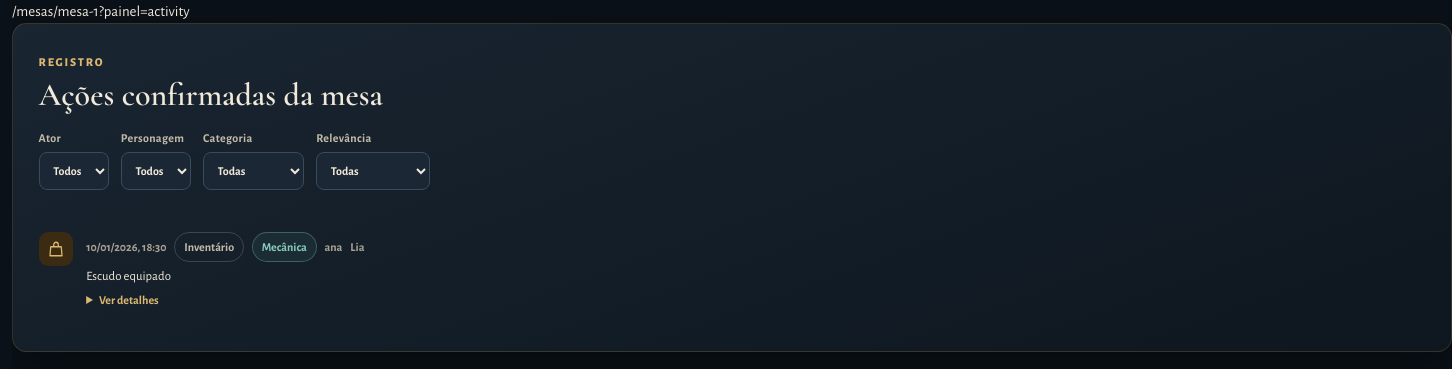
it: AuditLog — 7.4/7.5/7.6 registro de auditoria › combina os filtros de personagem e categoria, refletindo-os na URL e na consulta enviada
Expected: the text "Escudo equipado" is shown, x1=86 y1=270 x2=171 y2=283
Select "Lia" in the dropdown labelled "Personagem". click: (156, 171)
box: x1=121 y1=152 x2=191 y2=190
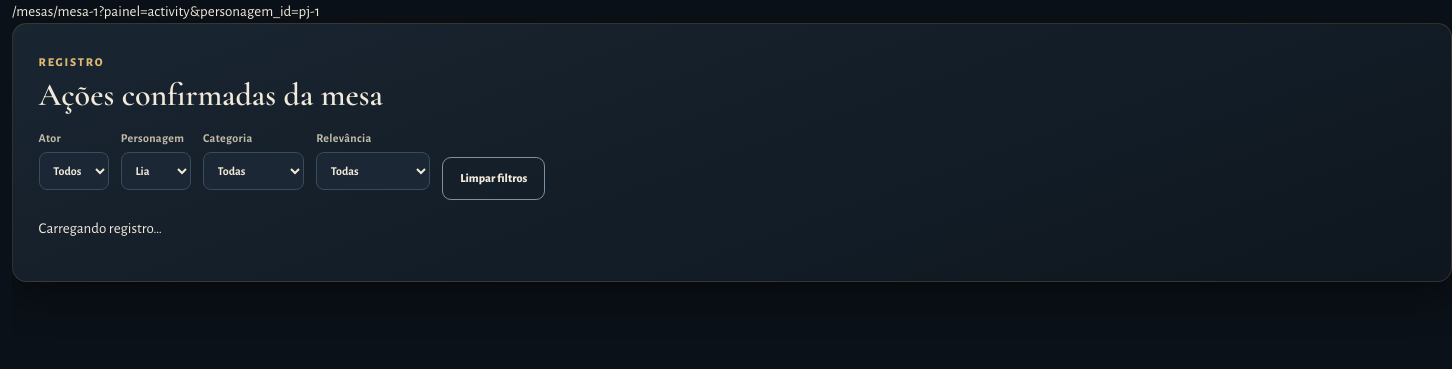
Select "Inventário" in the dropdown labelled "Categoria". click: (254, 171)
box: x1=203 y1=152 x2=304 y2=190
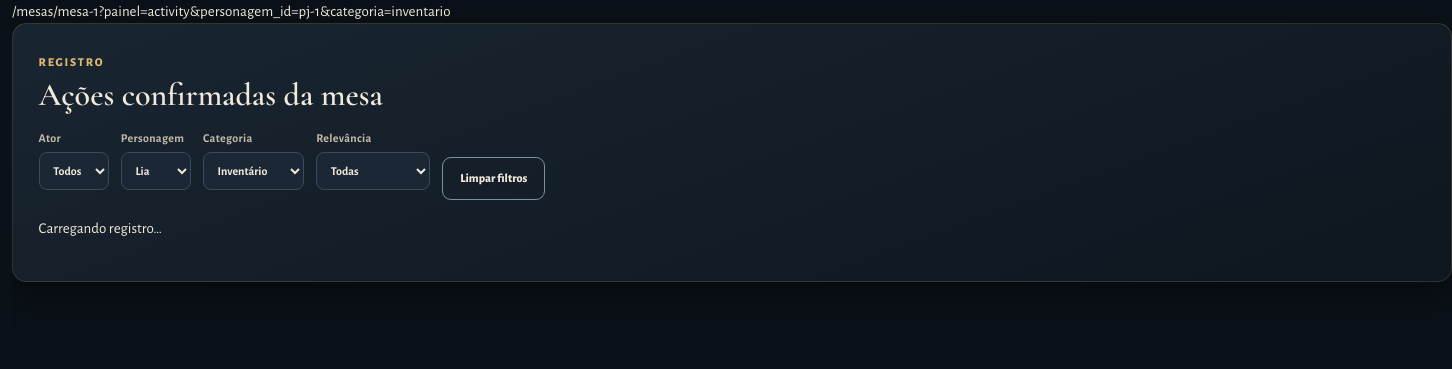
Result: the text with test id "location" shows "personagem_id=pj-1" at x1=99 y1=4 x2=451 y2=19
Result: the text with test id "location" shows "categoria=inventario" at x1=99 y1=4 x2=451 y2=19
Click the button "Limpar filtros". click: (494, 178)
box: x1=442 y1=157 x2=545 y2=200
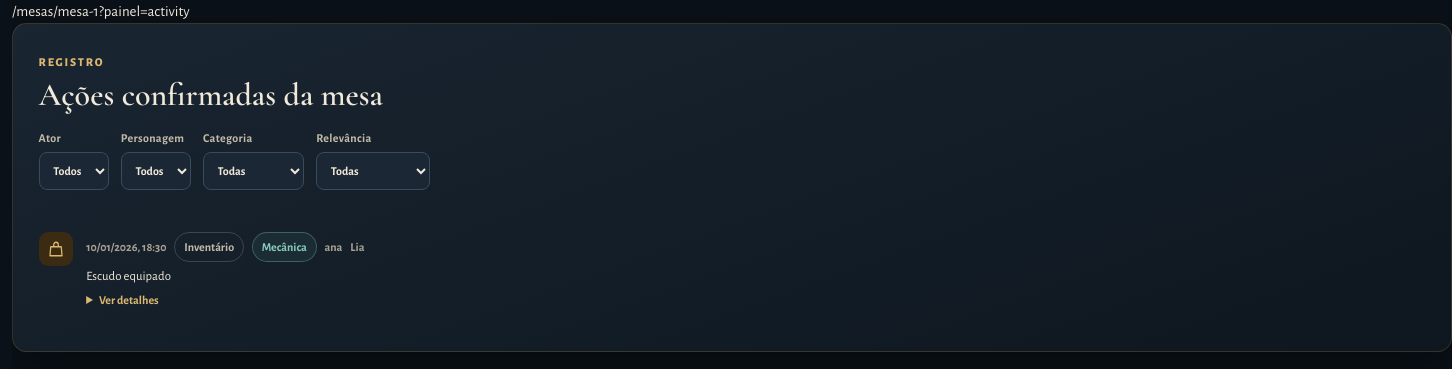
Result: the text with test id "location" no longer shows "personagem_id"
Result: the element with test id "location" no longer shows "categoria"
